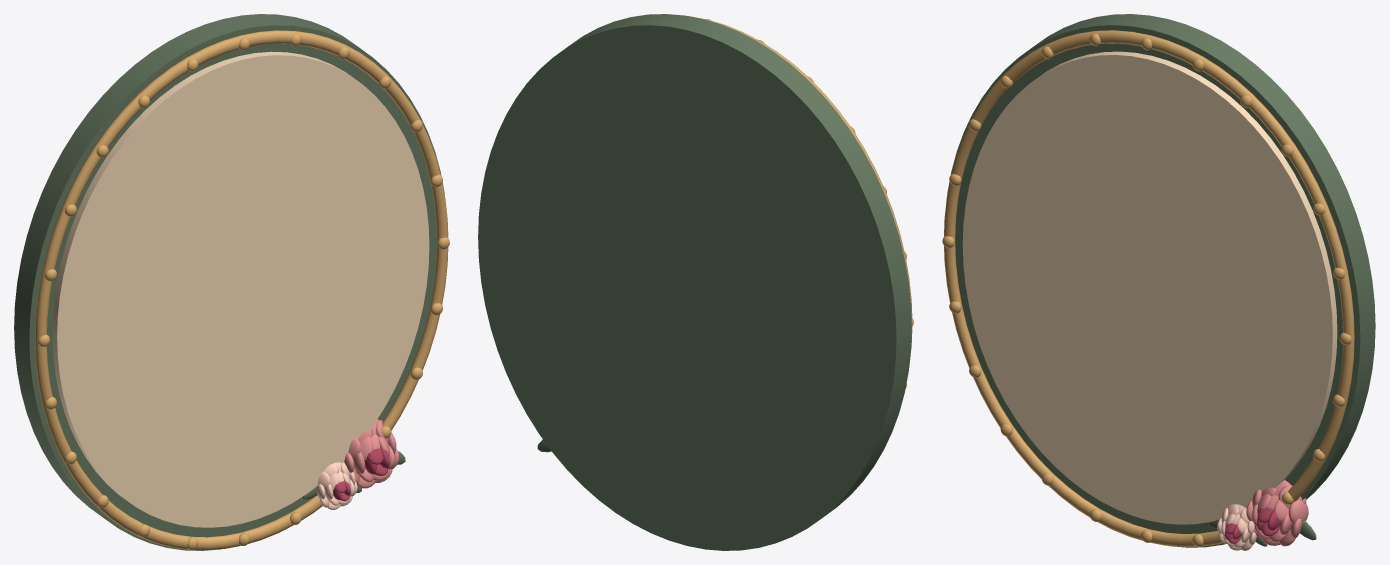
The model's file is frame-oval.glb.
3 views of the same model, side by side, from view 1: azimuth 30°, elevation 25°; view 2: azimuth 150°, elevation 25°; view 3: azimuth 330°, elevation 25° (orthographic).
Visible parts, largest first — view 1: Oval botanical frame; view 2: Oval botanical frame; view 3: Oval botanical frame.
Boxes of the visible parts, x1,y1,x2,y2 form: Oval botanical frame: [14, 14, 449, 550]; Oval botanical frame: [478, 14, 913, 550]; Oval botanical frame: [942, 14, 1375, 550].
Size of the model in its own units: 2.36 by 2.78 by 0.3099.
